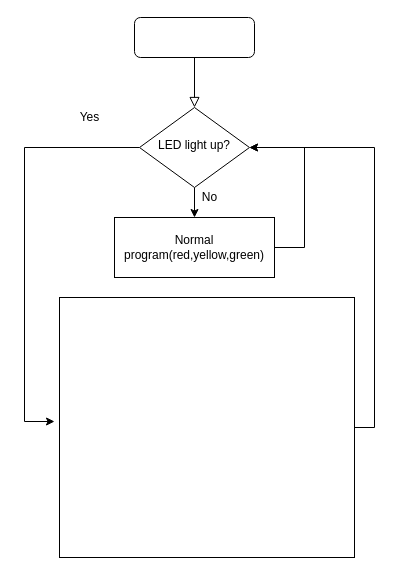
Image size: 400x575. Some labels were removed from this diagram. Here are the shapes that lost their labels. From the top down, the box of each, then its label:
(134, 16, 254, 58): Start
(58, 296, 354, 558): IRS: Red will light, Zebra green will light count 15 sec
